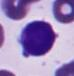L: (18, 19, 57, 57)
